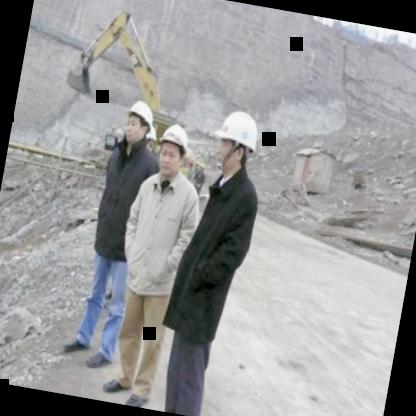helmet: (208, 104, 266, 182), (152, 119, 192, 181), (119, 92, 157, 150)
